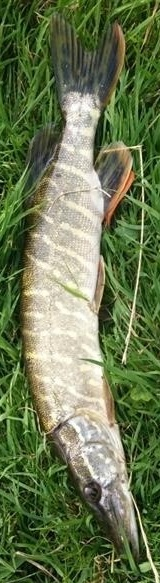Esox lucius: (20, 11, 140, 563)
